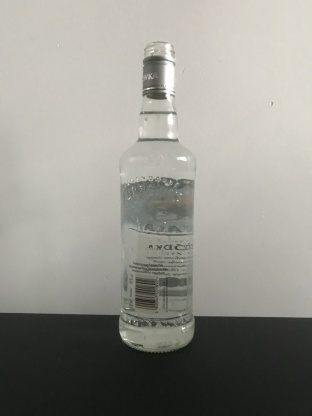nakretka: (140, 39, 177, 100)
